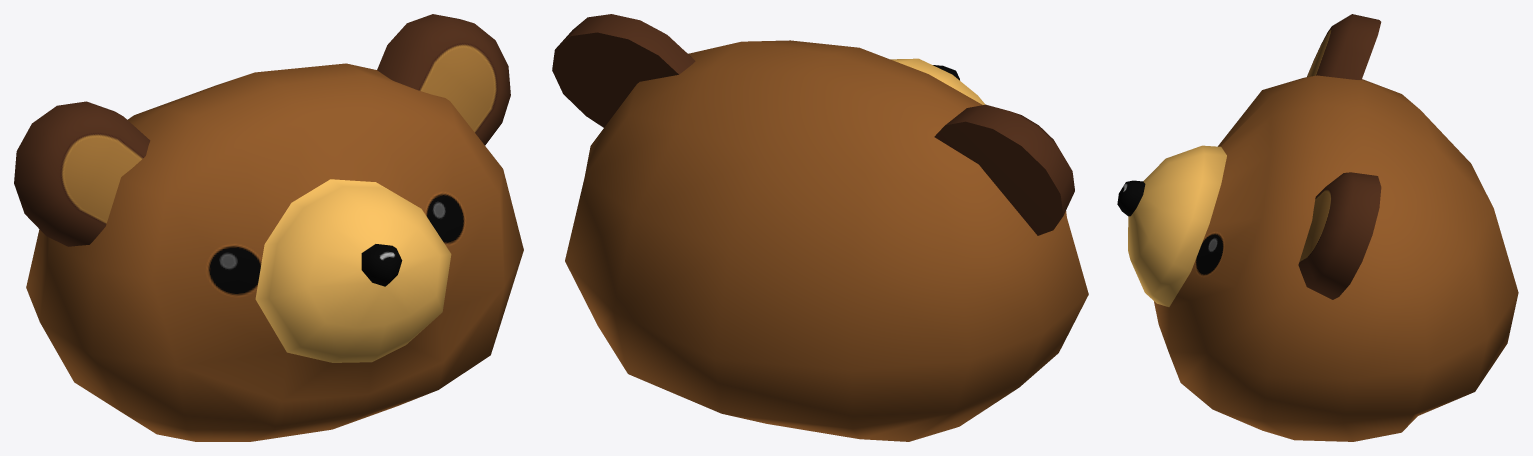
File: Candy_BearHead-B.FBX
3 views of the same model, side by side, from view 1: azimuth 30°, elevation 25°; view 2: azimuth 150°, elevation 25°; view 3: azimuth 270°, elevation 25° (orthographic). The views are drawn at different scales.
Visible parts, largest first — view 1: Candy_BearHead-B; view 2: Candy_BearHead-B; view 3: Candy_BearHead-B.
Boxes of the visible parts, x1,y1,x2,y2 form: Candy_BearHead-B: [14, 14, 523, 441]; Candy_BearHead-B: [552, 14, 1088, 441]; Candy_BearHead-B: [1117, 14, 1518, 441].
Size of the model in its own units: 3276 by 2020 by 2613.
1 material, 1 textured.
